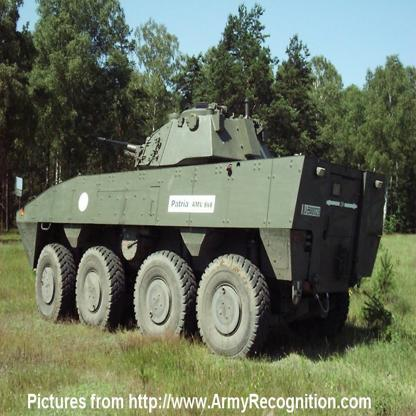Tank: (13, 104, 384, 358)
